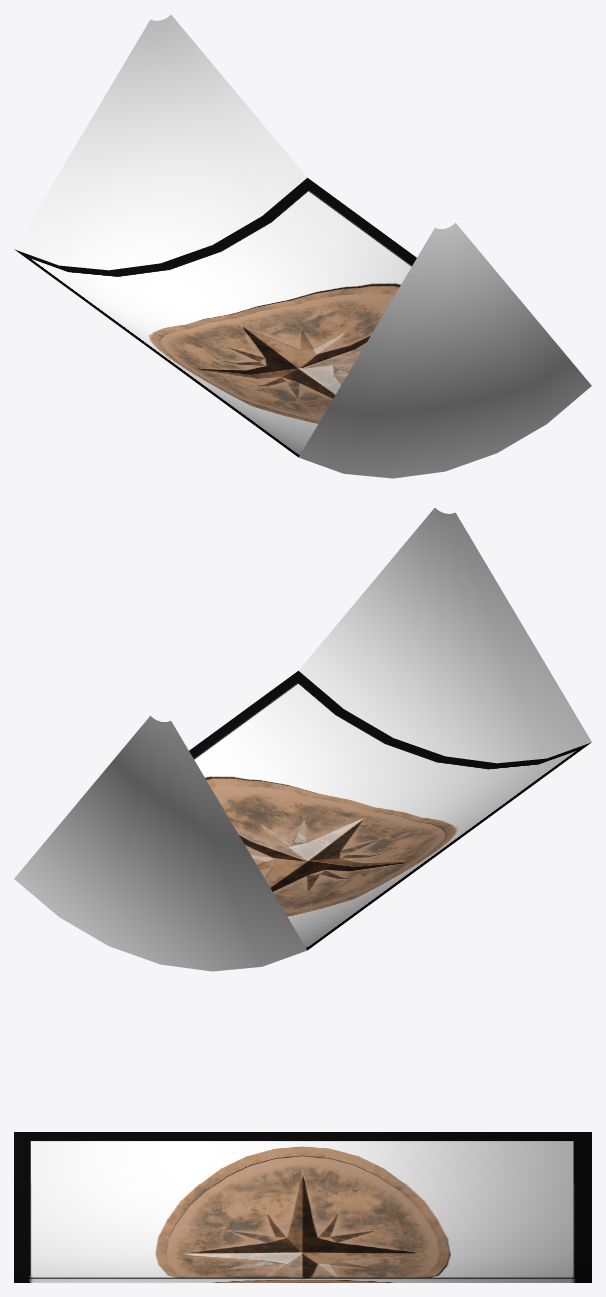
Rendered from roulette04.fbx.
3 views of the same model, one above another, from view 1: azimuth 30°, elevation 25°; view 2: azimuth 150°, elevation 25°; view 3: azimuth 270°, elevation 25° (orthographic).
Visible parts, largest first — view 1: roulette04; view 2: roulette04; view 3: roulette04.
Boxes of the visible parts, x1,y1,x2,y2 form: roulette04: (14, 15, 591, 478); roulette04: (14, 508, 591, 971); roulette04: (14, 1132, 591, 1282).
Bounding box in the file's own units: 79.84 × 64.08 × 134.
